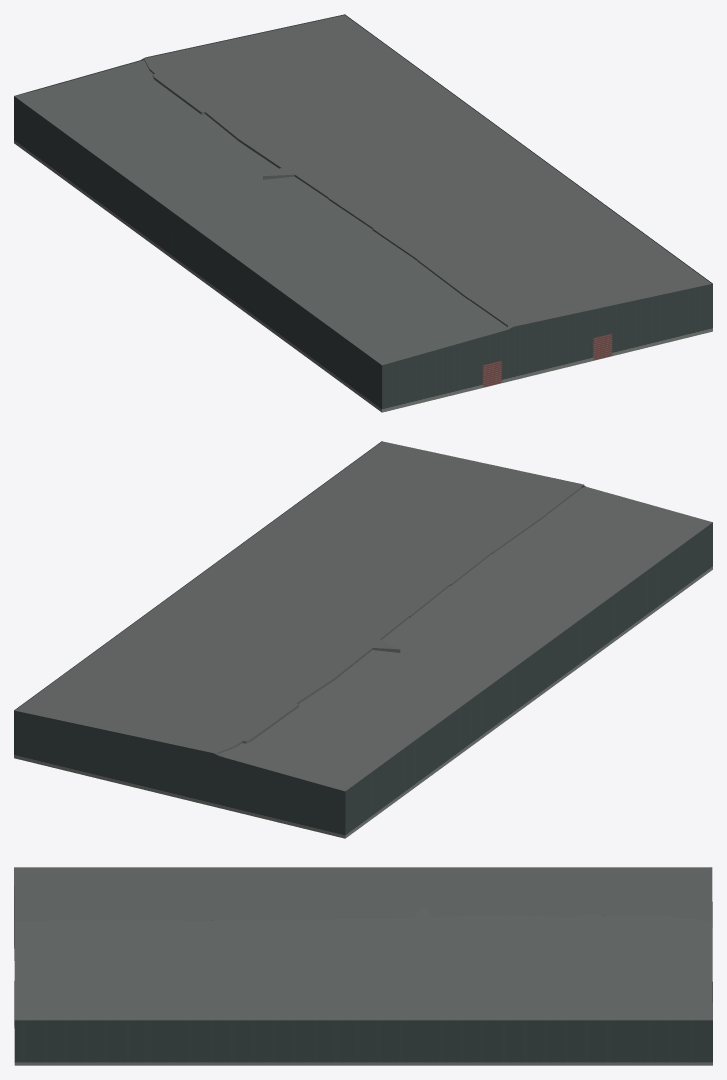
3 views of the same model, one above another, from view 1: azimuth 30°, elevation 25°; view 2: azimuth 150°, elevation 25°; view 3: azimuth 270°, elevation 25° (orthographic). The views are drawn at different scales.
Visible parts, largest first — view 1: 0363100012123231; view 2: 0363100012123231; view 3: 0363100012123231.
Part boxes in pixels (left/top/right/bottom): 0363100012123231: left=14, top=14, right=712, bottom=412; 0363100012123231: left=14, top=441, right=712, bottom=838; 0363100012123231: left=14, top=867, right=712, bottom=1065.
Bounding box in the file's own units: 62.39 × 9.83 × 120.
2 materials, 1 textured.
